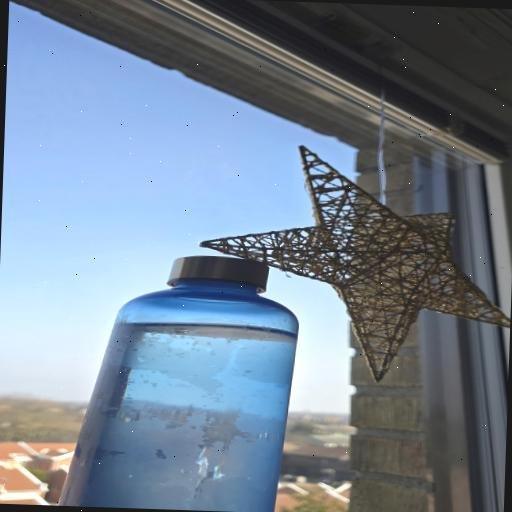bottle: (21, 235, 301, 512)
